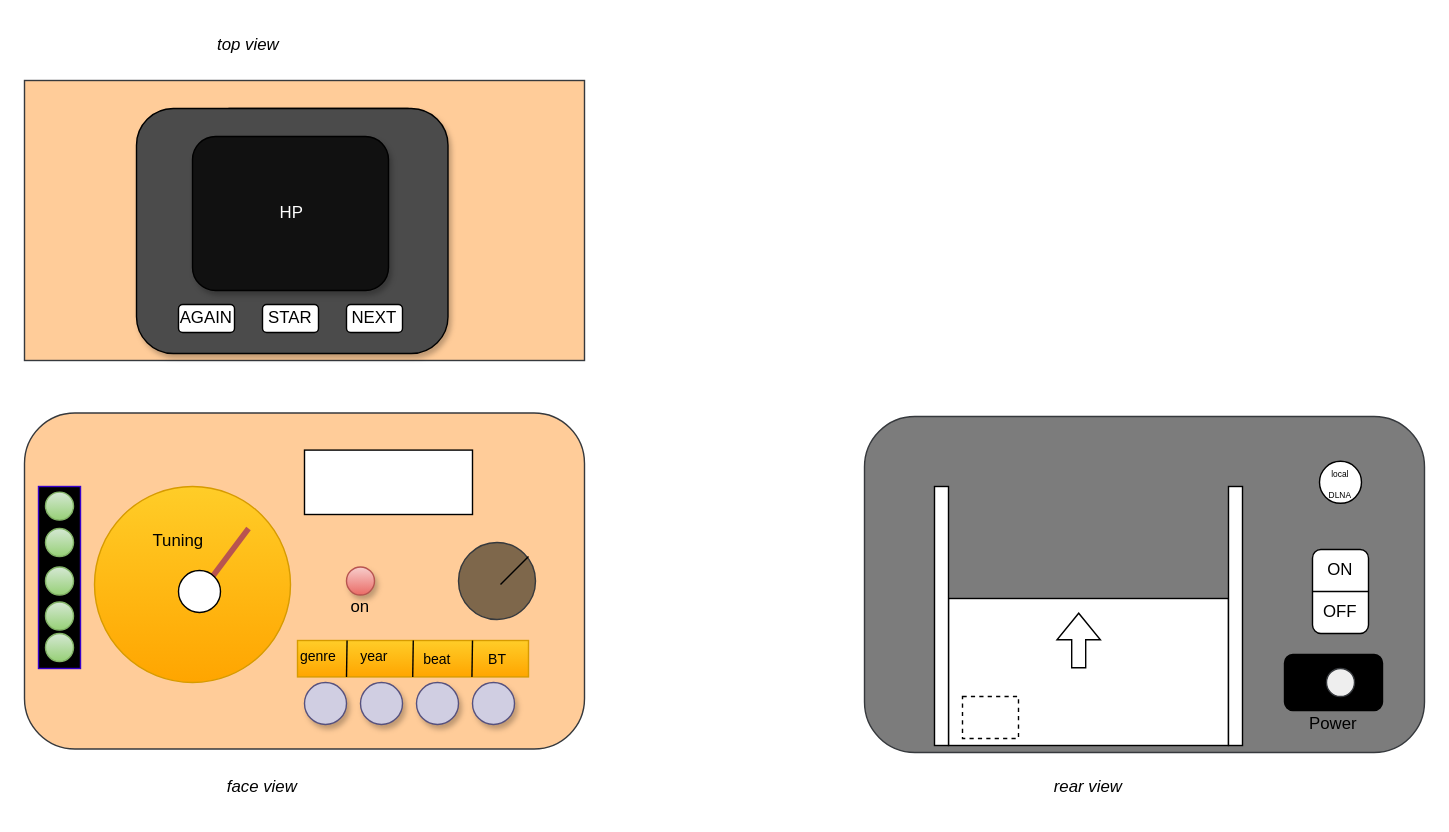
This 1449x832 diagram has some shape labels left out. The centre of each missing label's shape, as x and y in pixels:
"ePaper" belongs at (387,481).
"ON + Volume" belongs at (496,580).
"RJ45" belongs at (989,716).
